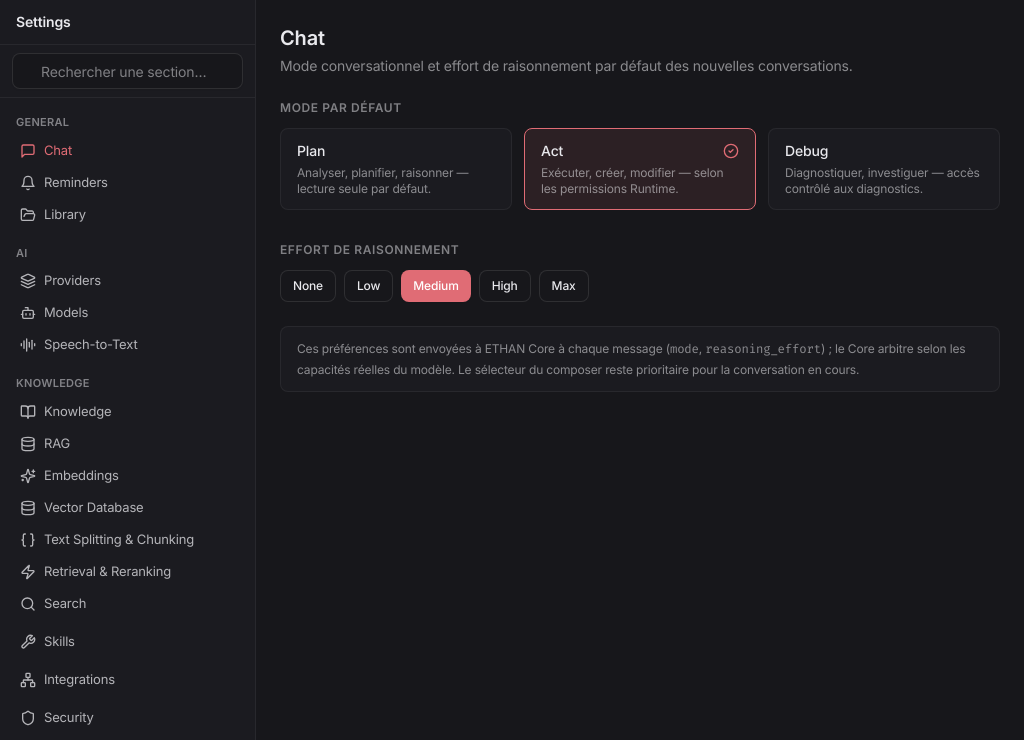
Scenario: Settings — recherche de sections › affiche un état vide explicite quand aucune section ne correspond
Type "zzzz" into the field named "Rechercher une section Settings" at x=128, y=71, box [12, 53, 243, 89]
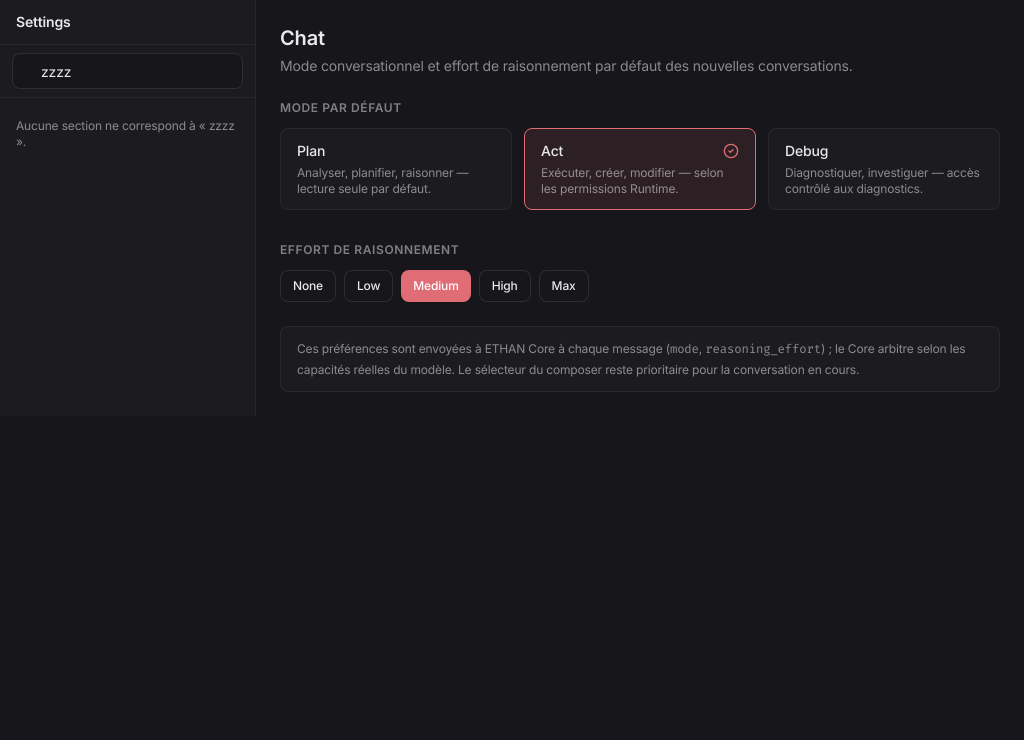
Now the text "Aucune section ne correspond à « zzzz »." is shown, box [16, 118, 235, 149]
Now the button "RAG" is gone
